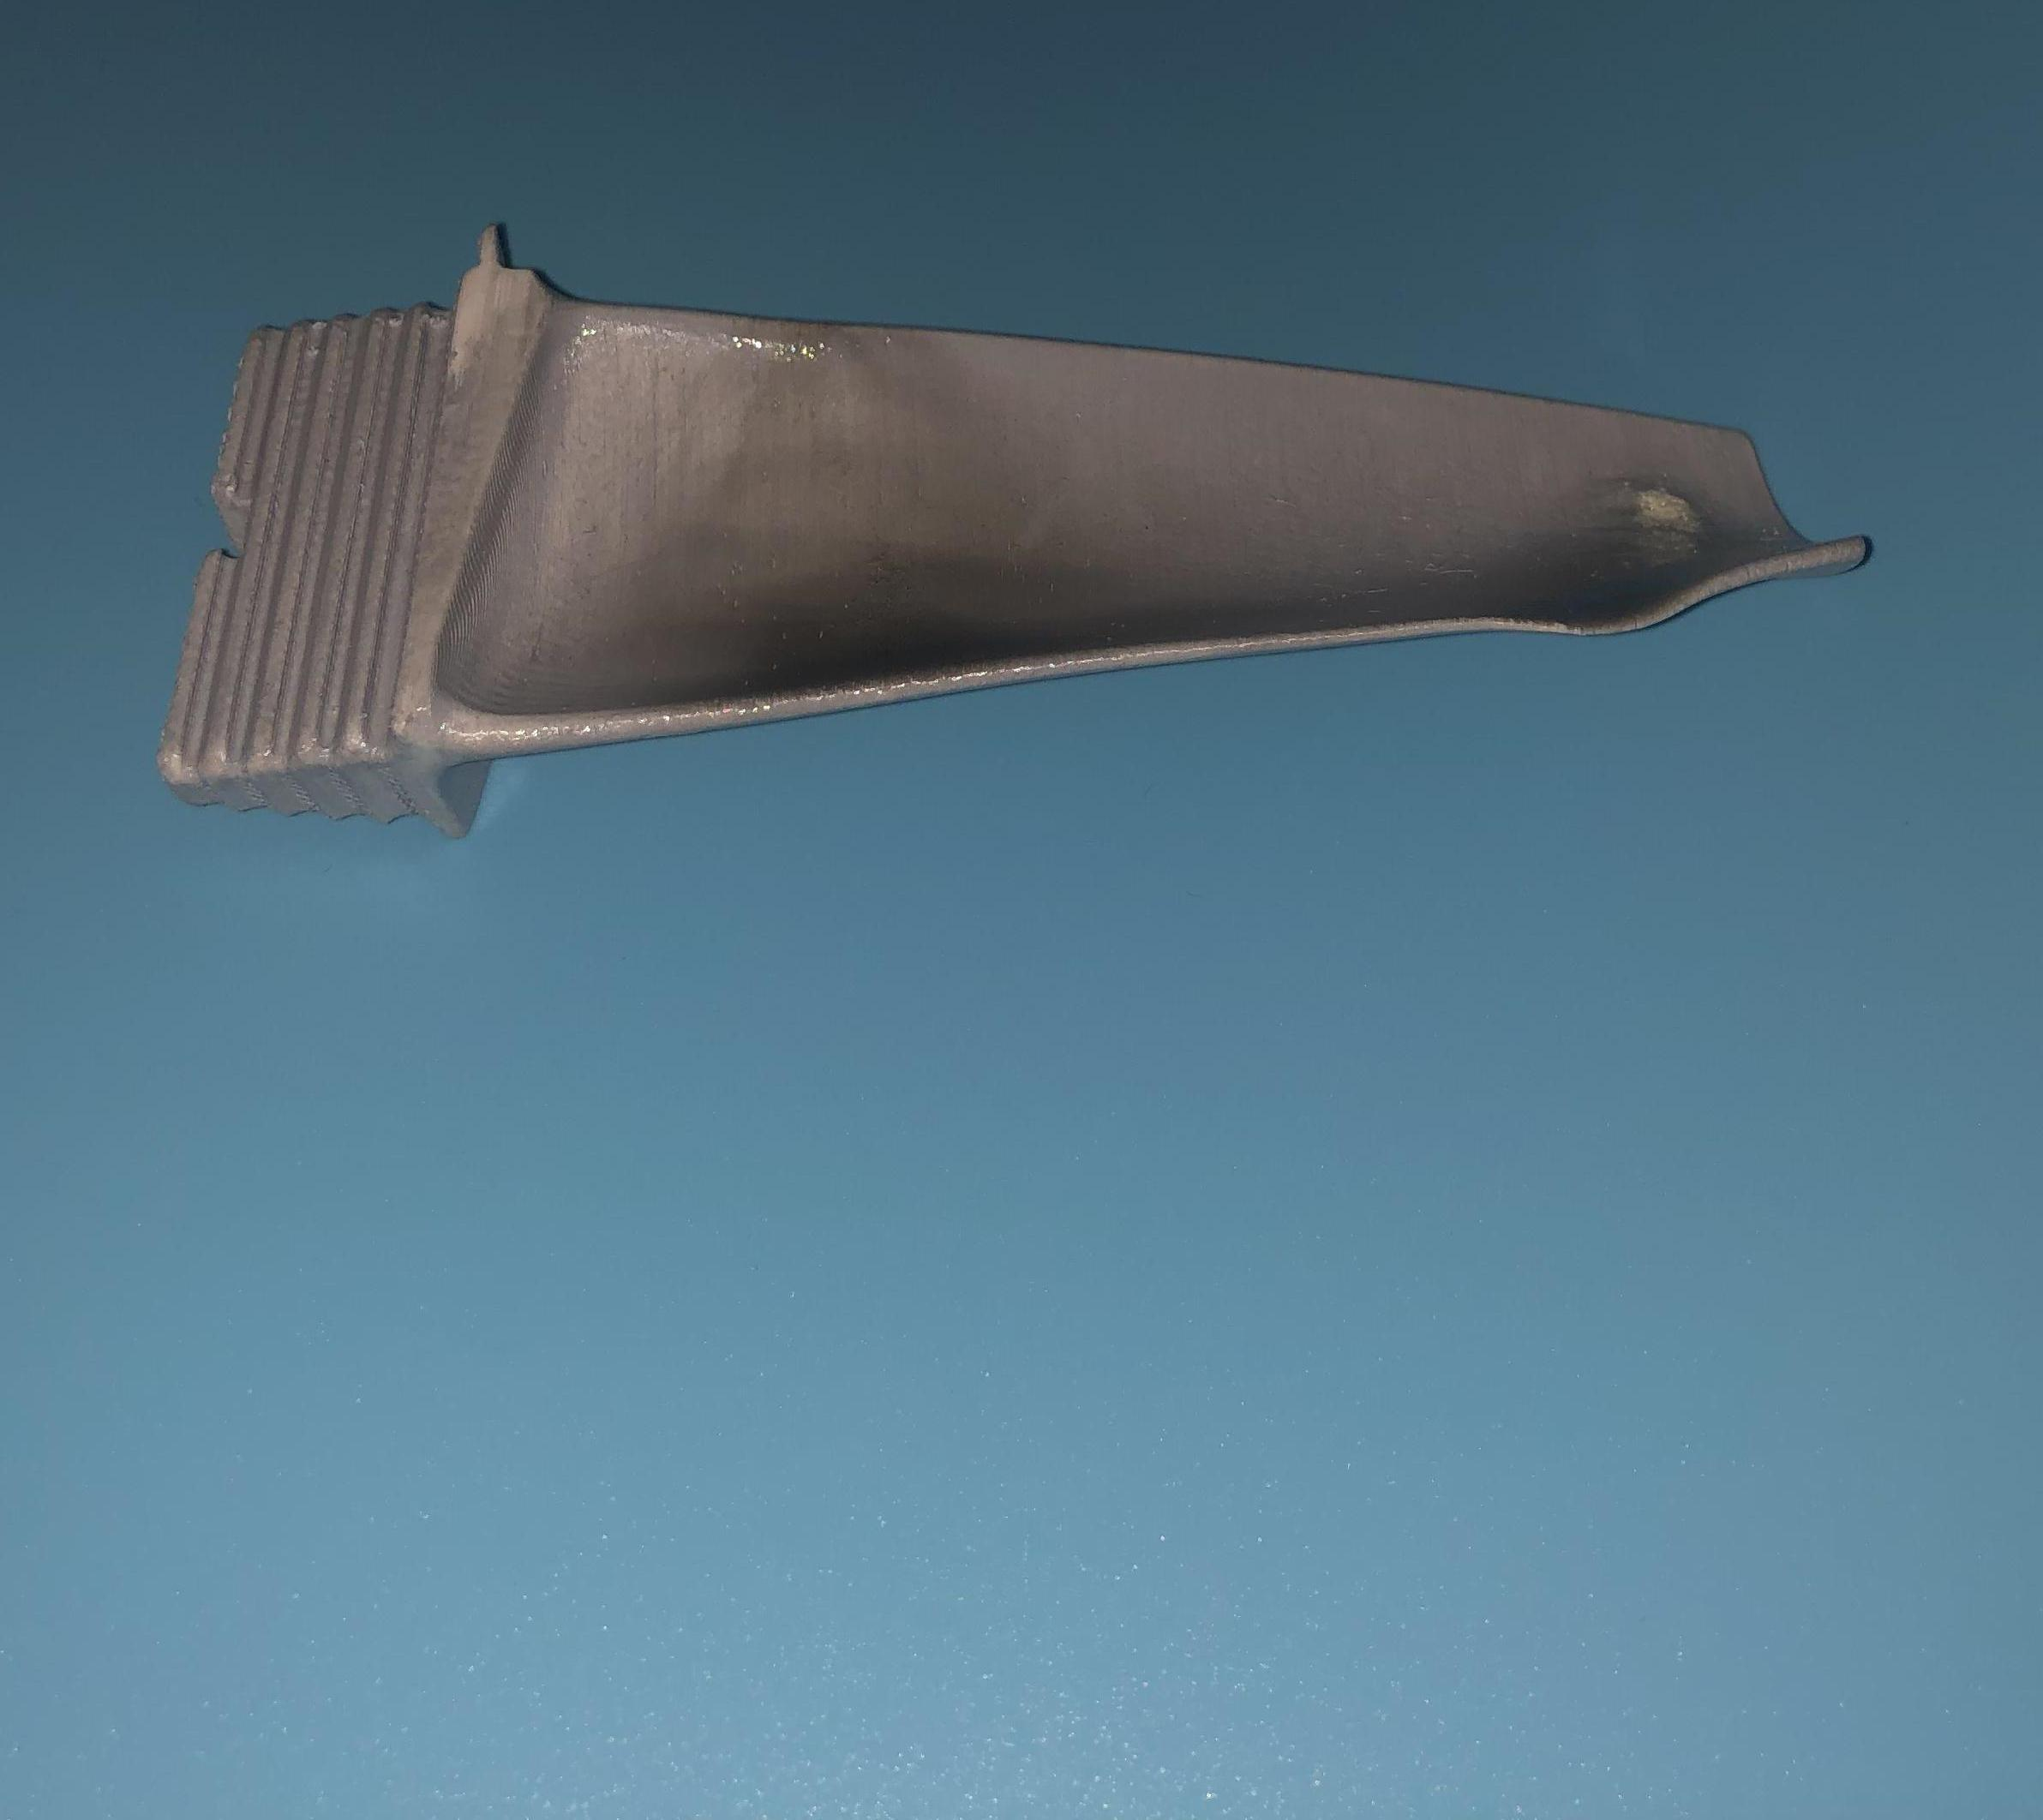ablation: (745, 541, 1084, 682), (1572, 508, 1744, 613)
